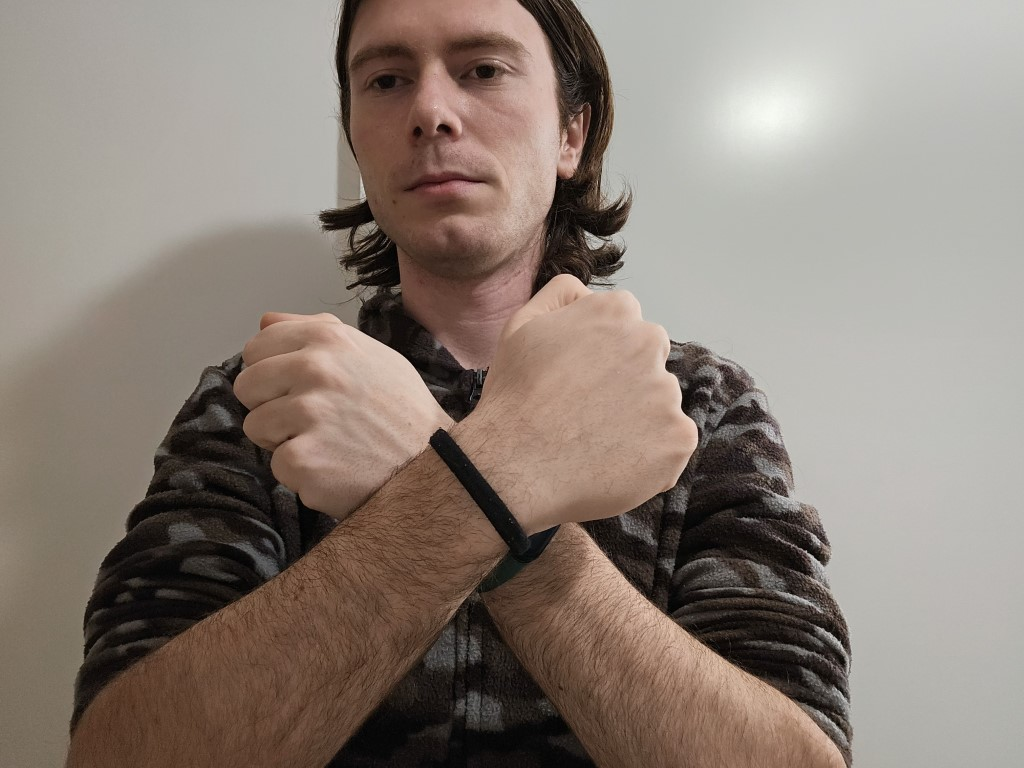del: (217, 271, 742, 586)
